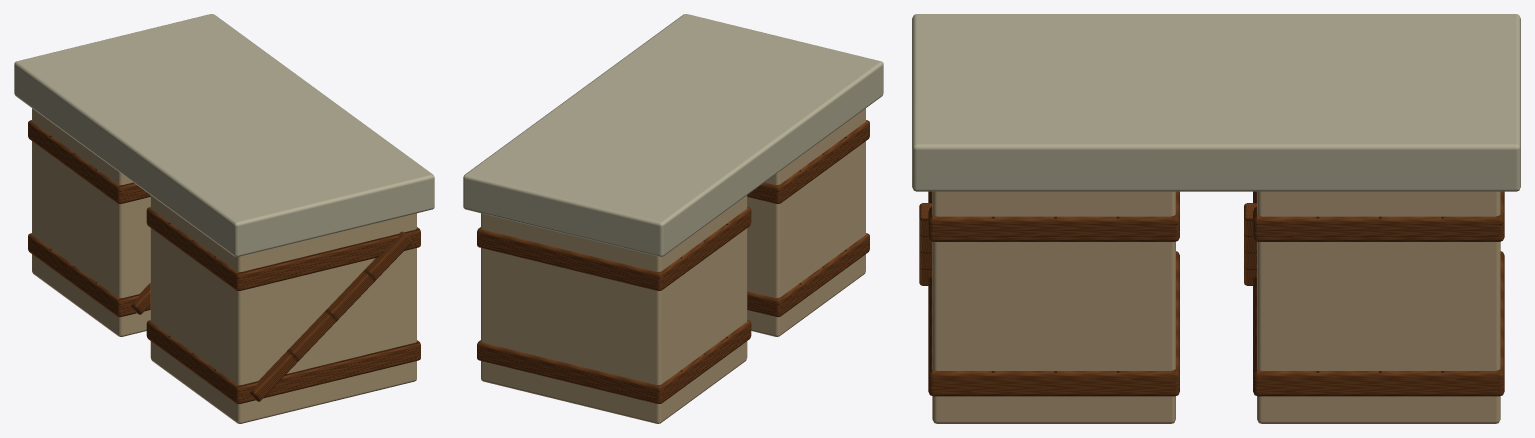
File: undercity-sewers-and-thieves-den-crate-bed-122ced25__27239.glb
The picture shows the model from 3 angles, left to right: view 1: azimuth 30°, elevation 25°; view 2: azimuth 150°, elevation 25°; view 3: azimuth 270°, elevation 25°; orthographic projection. The views are drawn at different scales.
Parts seen in each view (by area): view 1: crate-bed; view 2: crate-bed; view 3: crate-bed.
Boxes of the visible parts, left/top/right/bottom form: crate-bed: left=14, top=14, right=434, bottom=423; crate-bed: left=463, top=14, right=883, bottom=423; crate-bed: left=912, top=14, right=1520, bottom=423.
Bounding box in the file's own units: 0.78 × 0.78 × 1.5.
Materials: 3 (1 with a texture image).
